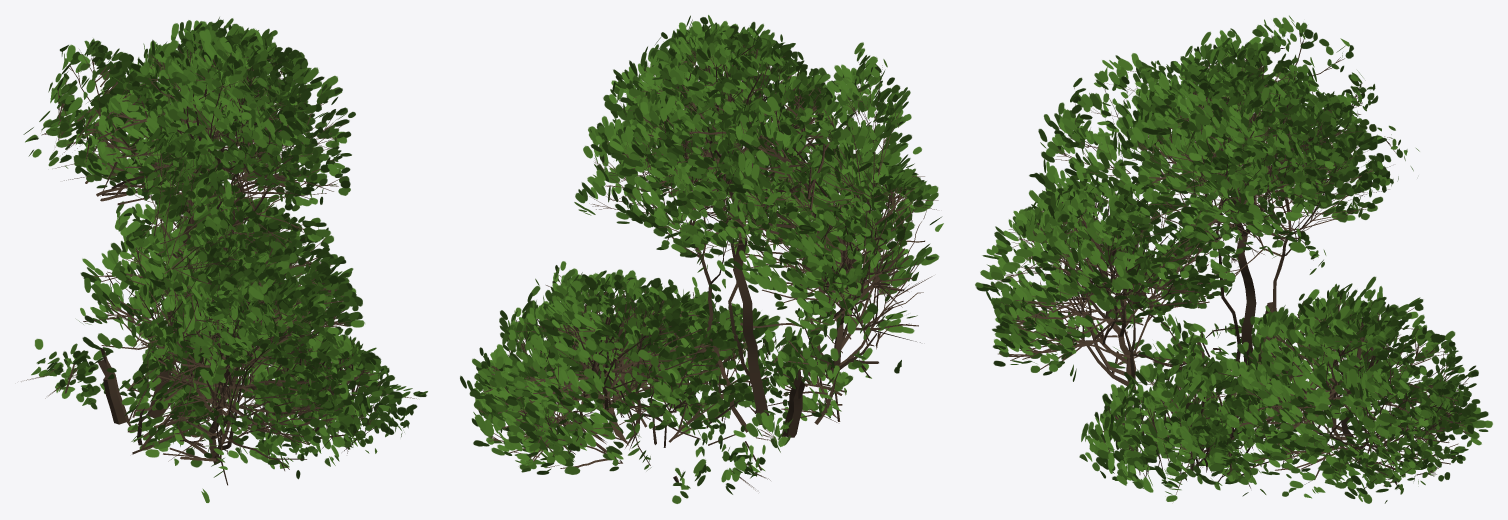
3 views of the same model, side by side, from view 1: azimuth 30°, elevation 25°; view 2: azimuth 150°, elevation 25°; view 3: azimuth 270°, elevation 25° (orthographic). The views are drawn at different scales.
Visible parts, largest first — view 1: oak 01.001_trunk_Mat.001_0.227; view 2: oak 01.001_trunk_Mat.001_0.227; view 3: oak 01.001_trunk_Mat.001_0.227.
Boxes of the visible parts, box(x1,y1,x2,y2) form: oak 01.001_trunk_Mat.001_0.227: box(21, 17, 427, 502); oak 01.001_trunk_Mat.001_0.227: box(460, 15, 943, 503); oak 01.001_trunk_Mat.001_0.227: box(975, 15, 1492, 503).
Size of the model in its own units: 3.77 by 4.59 by 5.45.
2 materials, 1 textured.
